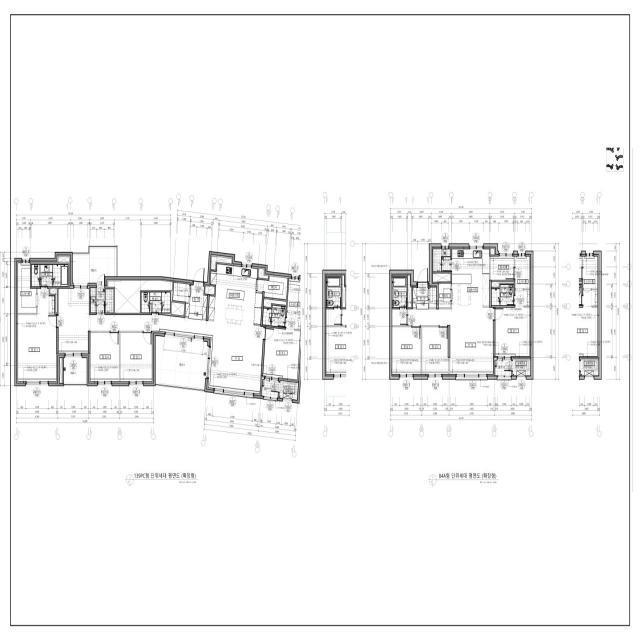space_balconi: (155, 336, 208, 389), (73, 248, 117, 283), (64, 358, 87, 383), (91, 288, 114, 313), (433, 249, 451, 271), (262, 380, 279, 398), (495, 360, 511, 376)
space_bedroom: (18, 289, 56, 381), (495, 290, 530, 356), (263, 327, 300, 380), (120, 333, 152, 381), (90, 333, 119, 381), (392, 327, 421, 374), (422, 327, 448, 374)
space_dressroom: (18, 263, 36, 313), (286, 279, 303, 329), (515, 256, 530, 289)
space_front: (185, 285, 207, 320), (413, 287, 428, 309)
space_kitchen: (208, 264, 262, 326), (452, 249, 489, 306)
space_living_room: (58, 289, 264, 394), (408, 308, 493, 374)
space_other: (108, 281, 173, 313), (257, 276, 288, 300), (491, 256, 514, 280), (173, 283, 190, 302), (211, 256, 232, 270), (439, 283, 451, 307), (392, 309, 407, 326), (171, 302, 185, 316), (50, 288, 57, 313), (433, 273, 451, 282), (264, 300, 286, 307), (429, 287, 436, 307), (408, 275, 412, 307), (492, 282, 514, 287), (258, 269, 268, 279), (205, 286, 215, 295), (58, 257, 69, 263), (60, 358, 62, 384), (491, 249, 494, 255)
space_outdoor_room: (279, 381, 298, 400), (513, 359, 530, 376)
space_toilet: (32, 265, 68, 286), (141, 292, 170, 313), (263, 305, 286, 327), (392, 277, 407, 307), (492, 285, 514, 305)
